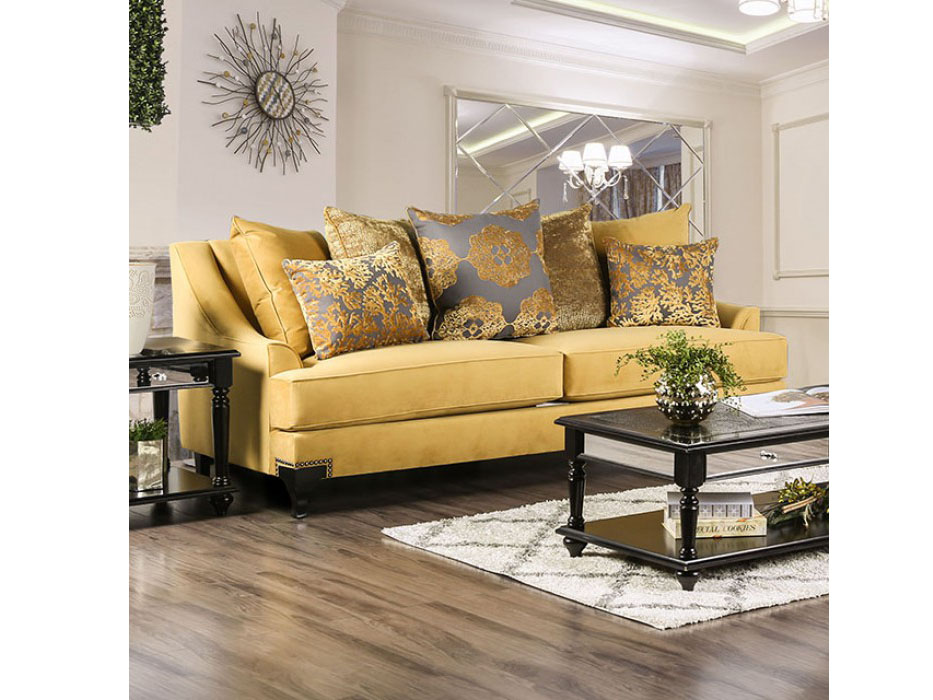chairs: (161, 206, 794, 520)
